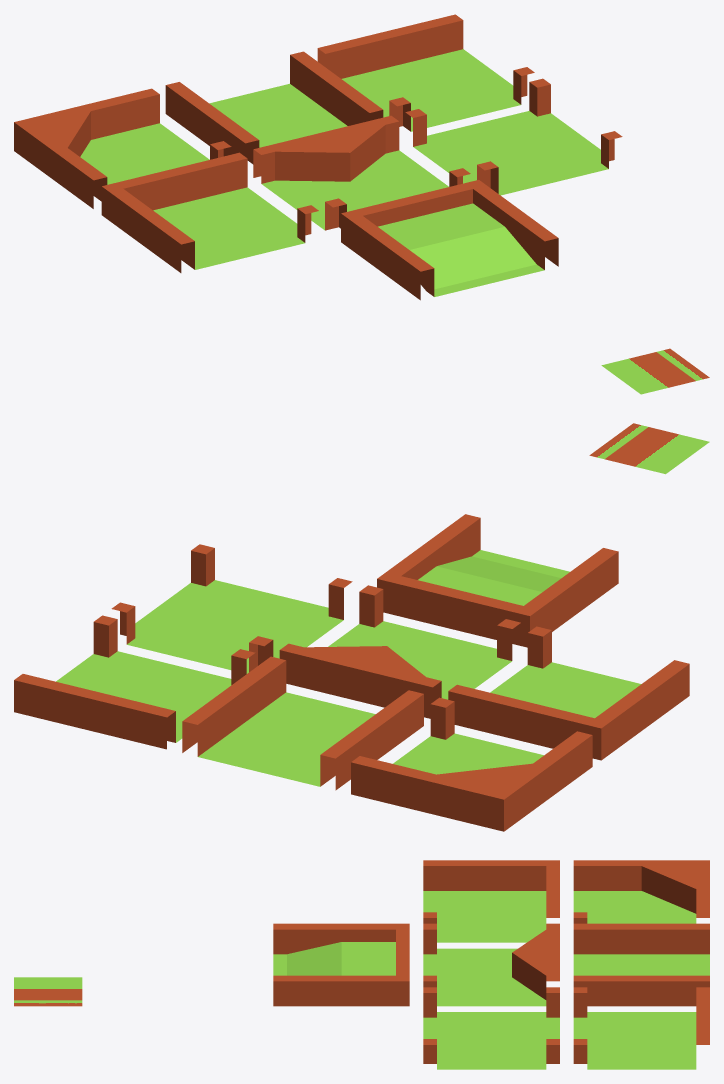
The model's file is course_test.dae.
The picture shows the model from 3 angles, top to bottom: view 1: azimuth 30°, elevation 25°; view 2: azimuth 150°, elevation 25°; view 3: azimuth 270°, elevation 25°; orthographic projection. The views are drawn at different scales.
Visible parts, largest first — view 1: cap, cornersharp, Tplain, cornerbevel, Tsplit, 4way, lane, template; view 2: lane, cap, cornerbevel, cornersharp, Tplain, Tsplit, 4way, template; view 3: cap, lane, cornersharp, cornerbevel, 4way, Tsplit, Tplain, template.
Part boxes in pixels (x1,y1,x2,y2): cap: [341, 180, 558, 300]; cornersharp: [101, 152, 318, 272]; Tplain: [317, 14, 534, 131]; cornerbevel: [14, 88, 231, 208]; Tsplit: [253, 115, 470, 230]; 4way: [405, 78, 622, 195]; lane: [165, 51, 383, 164]; template: [601, 348, 709, 394]; lane: [182, 656, 423, 790]; cap: [377, 514, 618, 647]; cornerbevel: [351, 697, 592, 831]; cornersharp: [448, 626, 689, 760]; Tplain: [14, 615, 255, 749]; Tsplit: [279, 585, 520, 718]; 4way: [111, 544, 352, 673]; template: [589, 423, 709, 474]; cap: [273, 923, 409, 1006]; lane: [573, 923, 709, 1006]; cornersharp: [423, 860, 559, 942]; cornerbevel: [573, 860, 709, 923]; 4way: [423, 987, 559, 1069]; Tsplit: [423, 923, 559, 1006]; Tplain: [573, 987, 709, 1069]; template: [14, 977, 82, 1006].
Size of the model in its own units: 6.4 by 10.2 by 0.4.
Materials: 1 (1 with a texture image).
